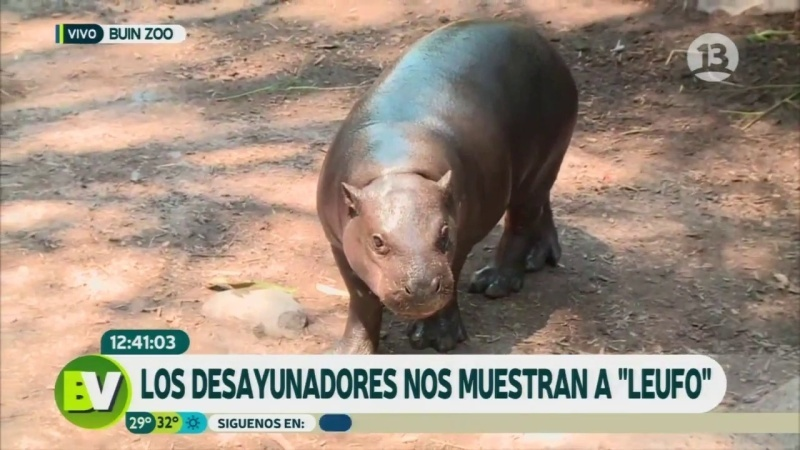hipopotamo: (298, 9, 574, 354)
